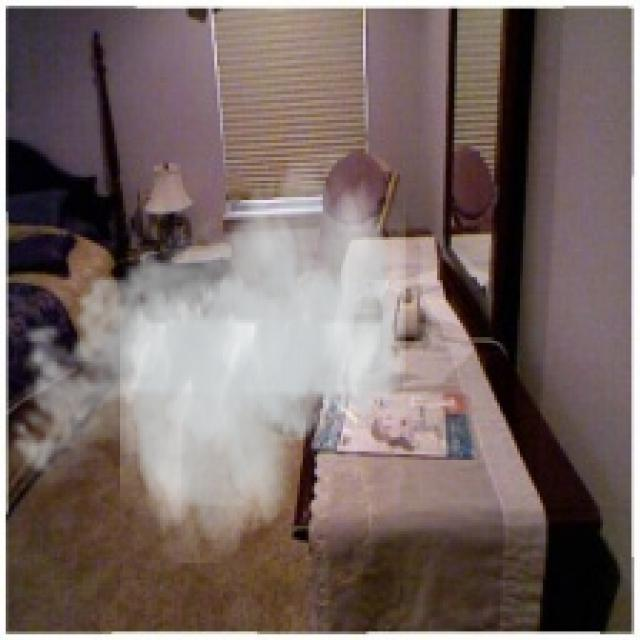smoke: (0, 151, 406, 563)
